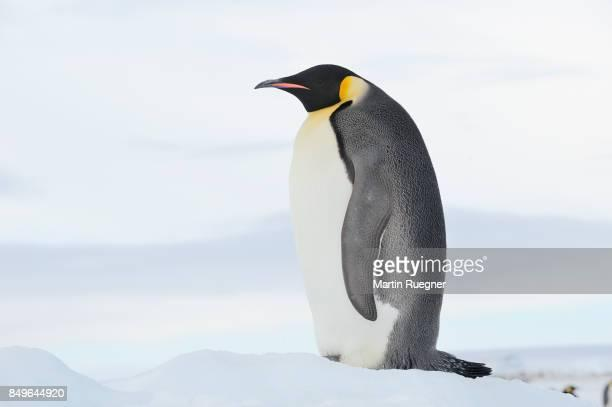emporer: (241, 46, 501, 386)
